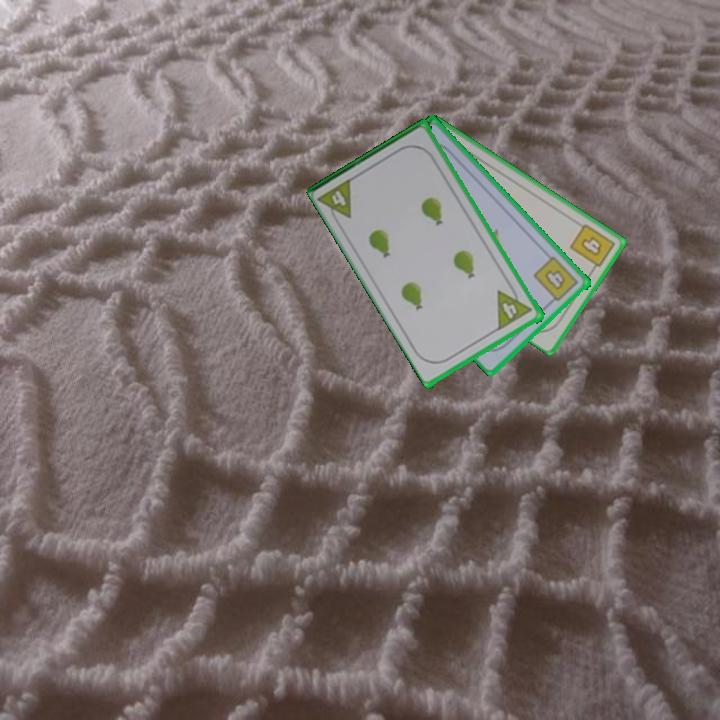4b: (566, 220, 618, 275), (530, 253, 582, 307)
4p: (315, 174, 356, 228), (493, 281, 536, 332)
